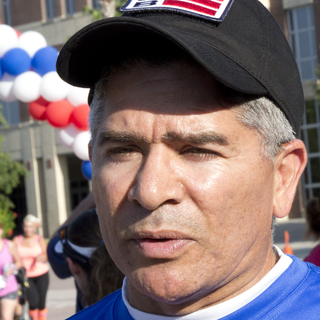eye: (177, 141, 227, 163), (104, 139, 146, 162)
